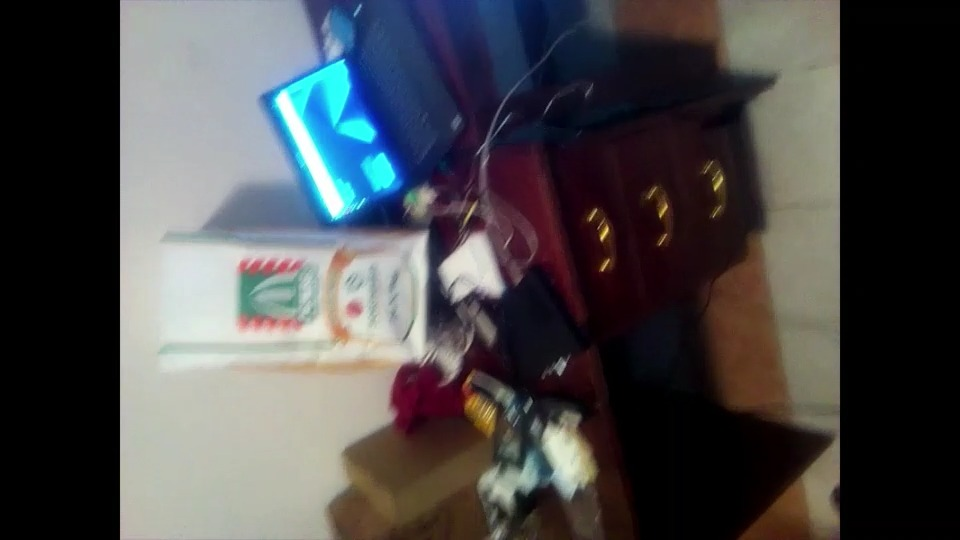wheat_flour_blue_label: (155, 229, 430, 370)
